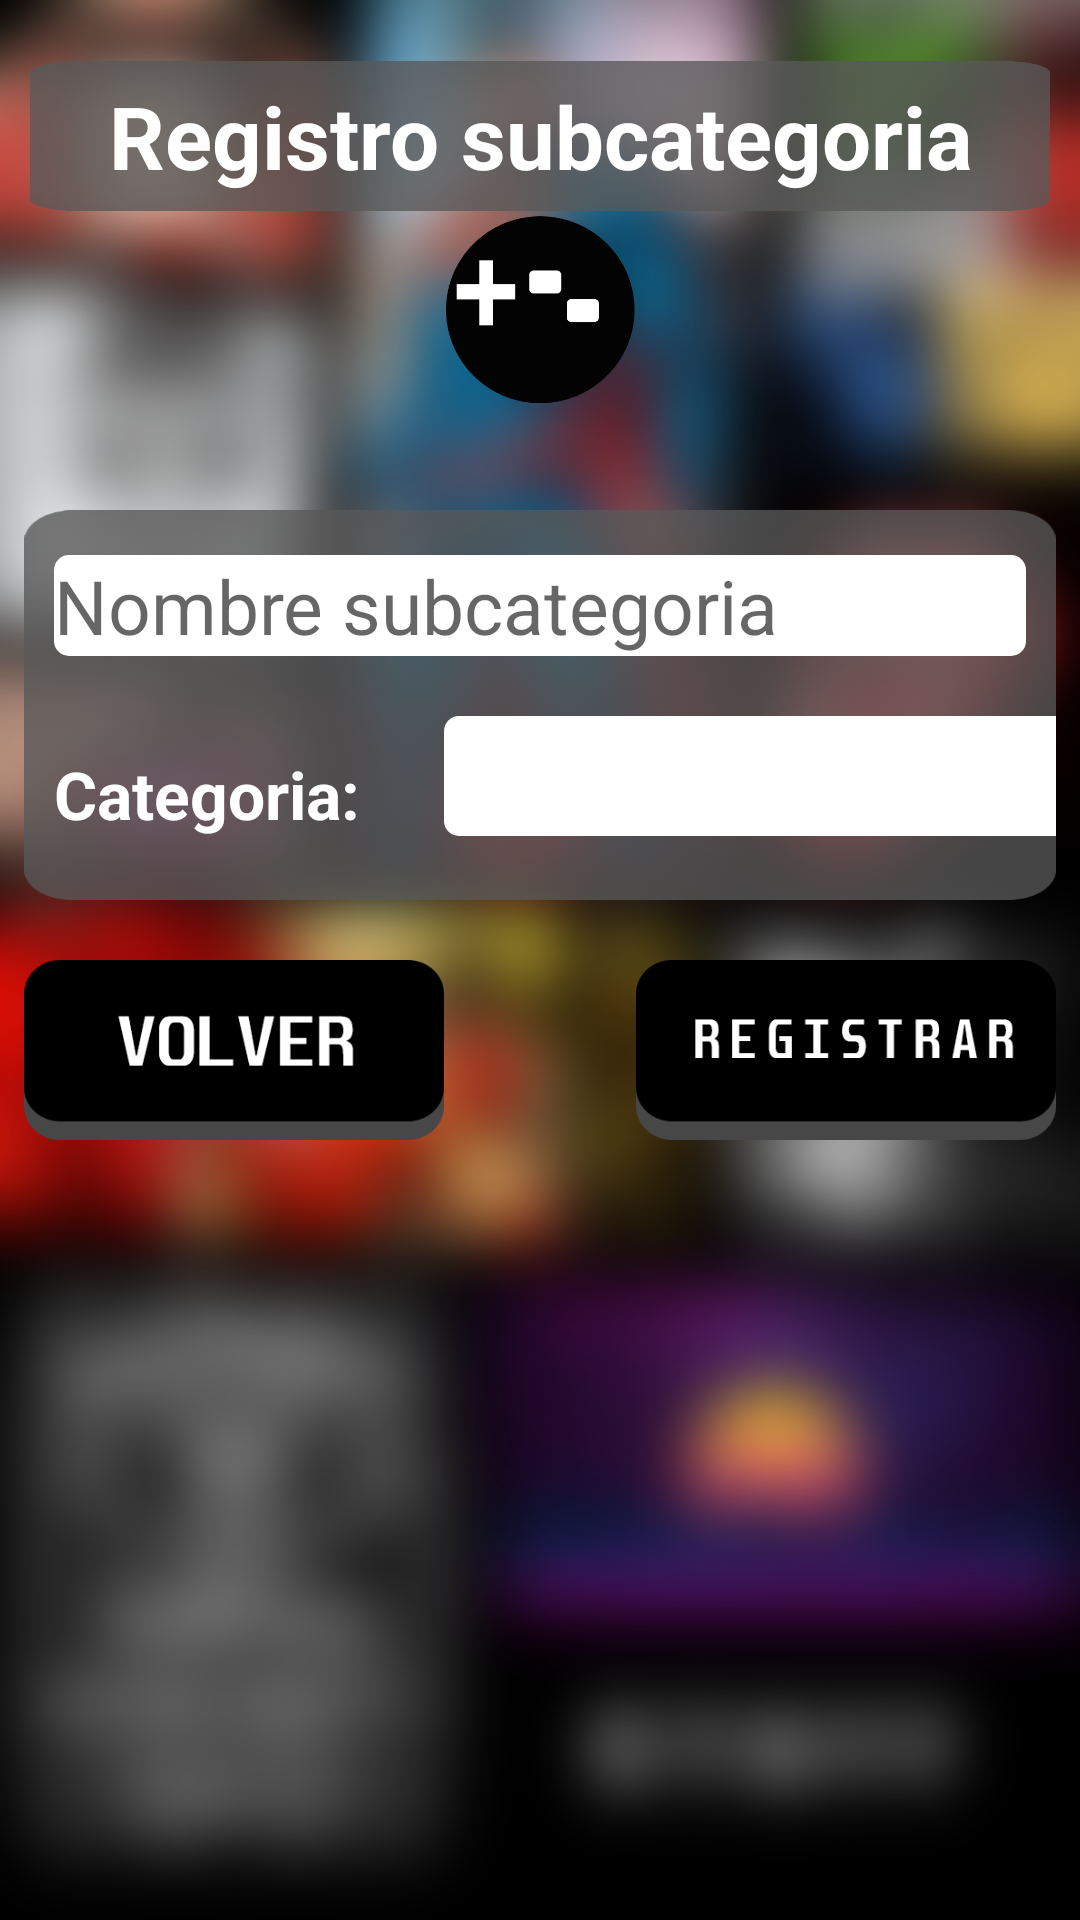

Icon click points for this 1080 × 1920 phone screenshot, format (x=x, y=y):
massubategoria: (x=540, y=315)
